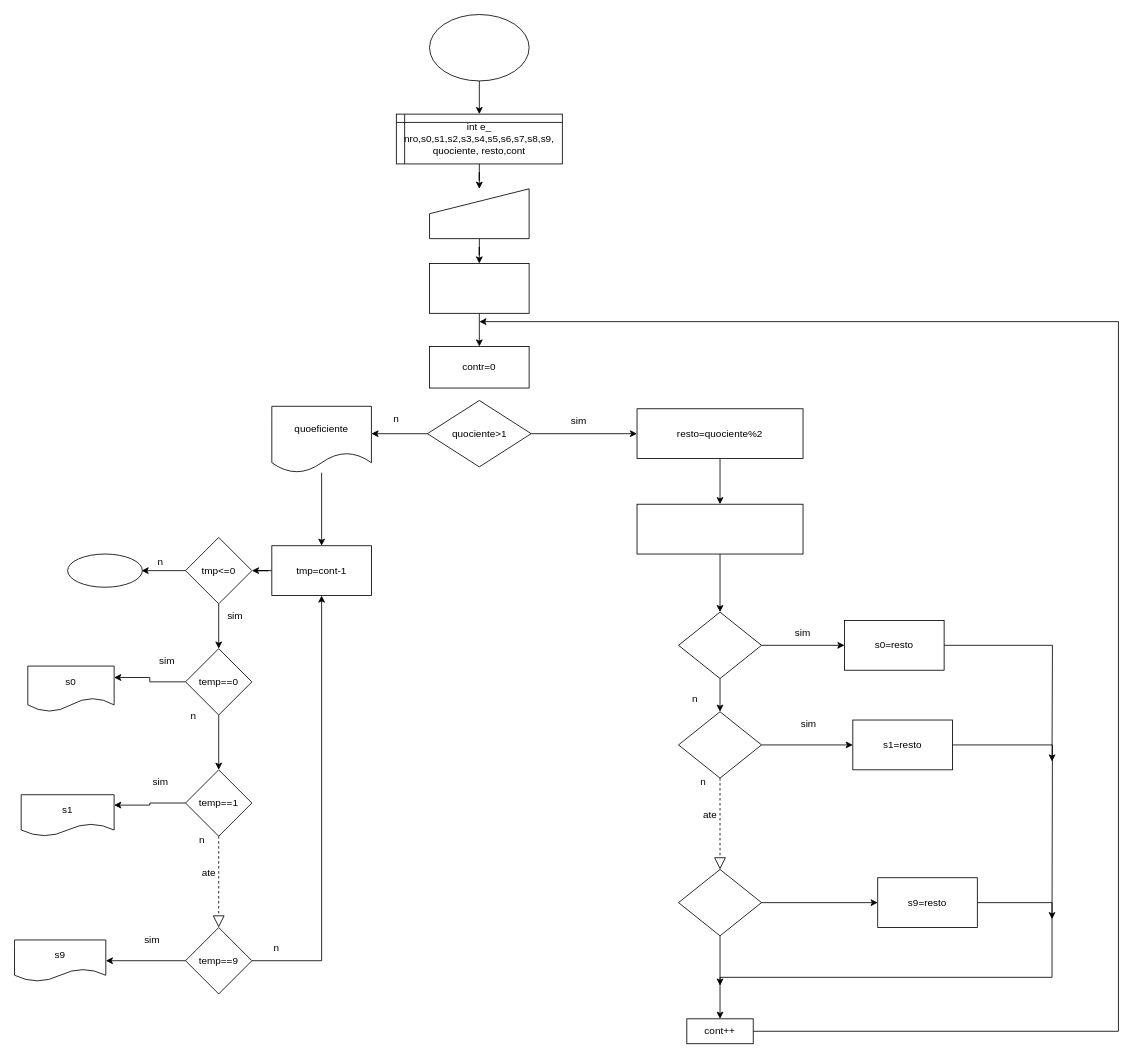
Image size: 1140x1058. Some labels were removed from this diagram. Each missing label, with the centre of its shape:
"cont=0" goes at [720,645].
"cont=1" goes at [720,744].
"cont=9" goes at [720,902].
"e_nro" goes at [479,213].
"end" goes at [104,570].
"quociente=e_nro" goes at [479,288].
"quociente=quociente/2" goes at [719,528].
"start" goes at [479,47].
